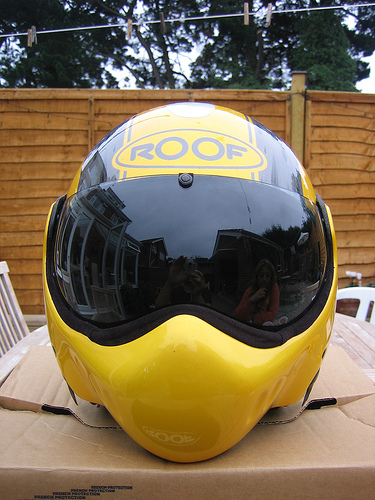helmet: (48, 91, 338, 431)
